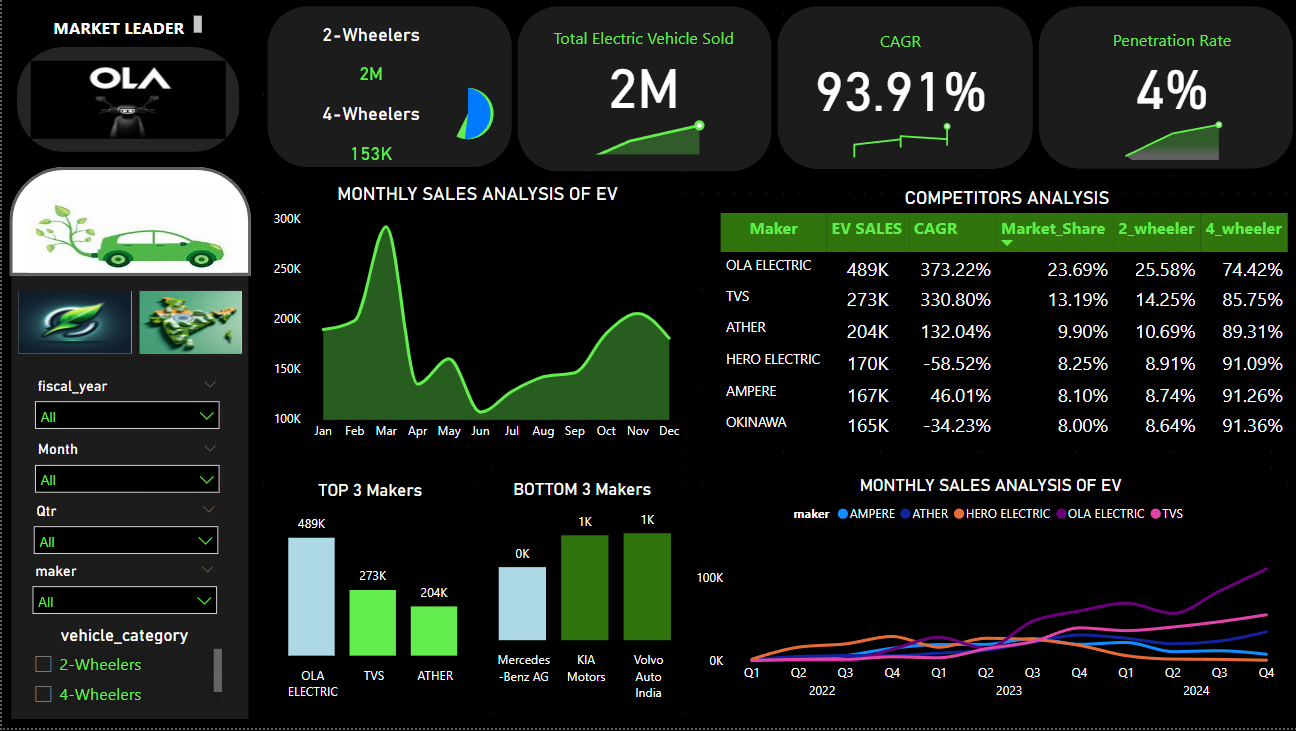

What the dashboard file says about the page in this screenshot:
{"tool":"powerbi","page":{"name":"MAKER","canvas":[1280,720],"ordinal":1},"visuals":[{"type":"shape","box":[0,164.2,251.8,556.5],"z":0,"group":"g7"},{"type":"shape","box":[691.1,190.5,588.3,254.8],"z":0,"group":"g5"},{"type":"pivotTable","title":"COMPETITORS ANALYSIS","fields":{"Rows":["electric_vehicle_sales_by_makers.maker"],"Values":["Sum(electric_vehicle_sales_by_makers.electric_vehicles_sold)","electric_vehicle_sales_by_makers.Maker_CAGR","electric_vehicle_sales_by_makers.Market_Share","electric_vehicle_sales_by_makers.2_wheeler_MARKET_SHARE","electric_vehicle_sales_by_makers.4_wheeler_MARKET_SHARE"]},"box":[702.2,187.6,573.5,265.8],"z":1000,"group":"g5"},{"type":"slicer","fields":{"Values":["dim_date.fiscal_year"]},"box":[22.3,370.1,201.7,62.6],"z":1000,"group":"g7"},{"type":"shape","box":[247.7,448,231.4,269.9],"z":1000,"group":"g2"},{"type":"slicer","fields":{"Values":["Calender.Month"]},"box":[22.3,432.7,201.7,58.4],"z":2000,"group":"g7"},{"type":"shape","box":[463.1,448,225.4,269.9],"z":2000,"group":"g3"},{"type":"columnChart","title":"BOTTOM 3  Makers","fields":{"Category":["electric_vehicle_sales_by_makers.maker"],"Y":["Sum(electric_vehicle_sales_by_makers.electric_vehicles_sold)"]},"box":[452.2,473.4,239.3,226.7],"z":3000,"group":"g3"},{"type":"slicer","fields":{"Values":["Calender.Qtr"]},"box":[20.9,492.5,201.7,59.8],"z":3000,"group":"g7"},{"type":"slicer","title":"vehicle_category","fields":{"Values":["electric_vehicle_sales_by_makers.vehicle_category"]},"box":[19.5,617.8,201.7,83.5],"z":4000,"group":"g7"},{"type":"columnChart","title":"TOP 3  Makers","fields":{"Category":["electric_vehicle_sales_by_makers.maker"],"Y":["Sum(electric_vehicle_sales_by_makers.electric_vehicles_sold)"]},"box":[244.9,475.3,235.1,224.7],"z":5000,"group":"g2"},{"type":"slicer","fields":{"Values":["electric_vehicle_sales_by_makers.maker"]},"box":[19.5,552.4,201.7,62.6],"z":5000,"group":"g7"},{"type":"actionButton","box":[7,168.4,237.9,107.1],"z":6000,"group":"g7"},{"type":"shape","box":[0,0,251.8,168.3],"z":7000},{"type":"shape","box":[498.5,0,268.3,180.9],"z":8000},{"type":"shape","box":[754.5,0,269.5,178.5],"z":9000},{"type":"shape","box":[1011.5,0,268.5,178.1],"z":10000},{"type":"cardVisual","fields":{"Data":["electric_vehicle_sales_by_state.Penetration Rate S"]},"box":[1024,13.5,256,161.2],"z":11000},{"type":"textbox","box":[45.9,13.9,155.8,29.2],"z":12000},{"type":"actionButton","box":[14.8,49.2,219.1,103.4],"z":13000},{"type":"group","id":"g1","title":"Group 1","box":[248.6,177.2,429.5,275.7],"z":14000},{"type":"stackedAreaChart","title":"MONTHLY SALES ANALYSIS OF EV ","fields":{"Category":["Monthly col Table.Month"],"Y":["measure.Total EV sold by Maker for Line Chart","measure.CM HIGHLIGHT"]},"box":[262.2,183.4,412.3,262.2],"z":15000},{"type":"group","id":"g2","title":"Group 3","box":[244.9,448,235.1,269.9],"z":16000},{"type":"cardVisual","fields":{"Data":["electric_vehicle_sales_by_makers.CAGR"]},"box":[771.7,11.1,226.5,176],"z":17000},{"type":"group","id":"g3","title":"Group 2","box":[452.2,448,236.5,269.9],"z":18000},{"type":"group","id":"g4","title":"Group 4","box":[674.5,461.5,604.3,256],"z":19000},{"type":"shape","box":[248.6,177.2,429.9,275.5],"z":20000,"group":"g1"},{"type":"group","id":"g5","title":"Group 7","box":[691.1,187.6,588.3,265.8],"z":20000},{"type":"shape","box":[674.5,461.5,604.3,256],"z":20000,"group":"g4"},{"type":"cardVisual","fields":{"Data":["Sum(electric_vehicle_sales_by_makers.electric_vehicles_sold)"]},"box":[492.3,0,279.4,172.3],"z":21000},{"type":"lineChart","title":"MONTHLY SALES ANALYSIS OF EV ","fields":{"Y":["Sum(electric_vehicle_sales_by_makers.electric_vehicles_sold)"],"Series":["electric_vehicle_sales_by_makers.maker"],"Category":["dim_date.fiscal_year","dim_date.quarter"]},"box":[678.8,470.7,590.5,234.9],"z":21000,"group":"g4"},{"type":"shape","box":[251.8,0,258.8,176.7],"z":22000},{"type":"group","id":"g6","title":"Group 5","box":[210.1,0,306.1,286.6],"z":23000},{"type":"cardVisual","fields":{"Data":["Min(electric_vehicle_sales_by_state.vehicle_category)","MEASURE.sold_of_2-wheelers","Max(electric_vehicle_sales_by_state.vehicle_category)","MEASURE.sold_of_4-wheelers"]},"box":[287.9,0,219.8,286.6],"z":23000,"group":"g6"},{"type":"cardVisual","fields":{"Data":["Min(electric_vehicle_sales_by_state.vehicle_category)","MEASURE.sold_of_2-wheelers","Max(electric_vehicle_sales_by_state.vehicle_category)","MEASURE.sold_of_4-wheelers"]},"box":[210.1,1.4,306.1,167],"z":24000,"group":"g6"},{"type":"actionButton","box":[7,281.1,129.4,79.3],"z":24000,"group":"g7"},{"type":"actionButton","box":[126.6,281.1,118.3,79.3],"z":25000,"group":"g7"},{"type":"group","id":"g7","title":"Group 6","box":[0,164.2,251.8,556.5],"z":25001}]}

Visuals, with their boxes in screenshot pixels (x1, y1, x2, y2), scaled from the page's 1280x720 canvas onto the 1296x731 screenshot:
shape: BBox(0, 167, 255, 730)
shape: BBox(700, 193, 1295, 452)
"COMPETITORS ANALYSIS" pivotTable: BBox(711, 190, 1292, 460)
slicer - dim_date.fiscal_year: BBox(23, 376, 227, 439)
shape: BBox(251, 455, 485, 729)
slicer - Calender.Month: BBox(23, 439, 227, 499)
shape: BBox(469, 455, 697, 729)
"BOTTOM 3  Makers" columnChart: BBox(458, 481, 700, 711)
slicer - Calender.Qtr: BBox(21, 500, 225, 561)
"vehicle_category" slicer: BBox(20, 627, 224, 712)
"TOP 3  Makers" columnChart: BBox(248, 483, 486, 711)
slicer - electric_vehicle_sales_by_makers.maker: BBox(20, 561, 224, 624)
actionButton: BBox(7, 171, 248, 280)
shape: BBox(0, 0, 255, 171)
shape: BBox(505, 0, 776, 184)
shape: BBox(764, 0, 1037, 181)
shape: BBox(1024, 0, 1295, 181)
cardVisual - electric_vehicle_sales_by_state.Penetration Rate S: BBox(1037, 14, 1295, 177)
textbox: BBox(46, 14, 204, 44)
actionButton: BBox(15, 50, 237, 155)
"Group 1" group: BBox(252, 180, 687, 460)
"MONTHLY SALES ANALYSIS OF EV " stackedAreaChart: BBox(265, 186, 683, 452)
"Group 3" group: BBox(248, 455, 486, 729)
cardVisual - electric_vehicle_sales_by_makers.CAGR: BBox(781, 11, 1011, 190)
"Group 2" group: BBox(458, 455, 697, 729)
"Group 4" group: BBox(683, 469, 1295, 728)
shape: BBox(252, 180, 687, 460)
"Group 7" group: BBox(700, 190, 1295, 460)
shape: BBox(683, 469, 1295, 728)
cardVisual - Sum(electric_vehicle_sales_by_makers.electric_vehicles_sold): BBox(498, 0, 781, 175)
"MONTHLY SALES ANALYSIS OF EV " lineChart: BBox(687, 478, 1285, 716)
shape: BBox(255, 0, 517, 179)
"Group 5" group: BBox(213, 0, 523, 291)
cardVisual - Min(electric_vehicle_sales_by_state.vehicle_category) x MEASURE.sold_of_2-wheelers: BBox(291, 0, 514, 291)
cardVisual - Min(electric_vehicle_sales_by_state.vehicle_category) x MEASURE.sold_of_2-wheelers: BBox(213, 1, 523, 171)
actionButton: BBox(7, 285, 138, 366)
actionButton: BBox(128, 285, 248, 366)
"Group 6" group: BBox(0, 167, 255, 730)
